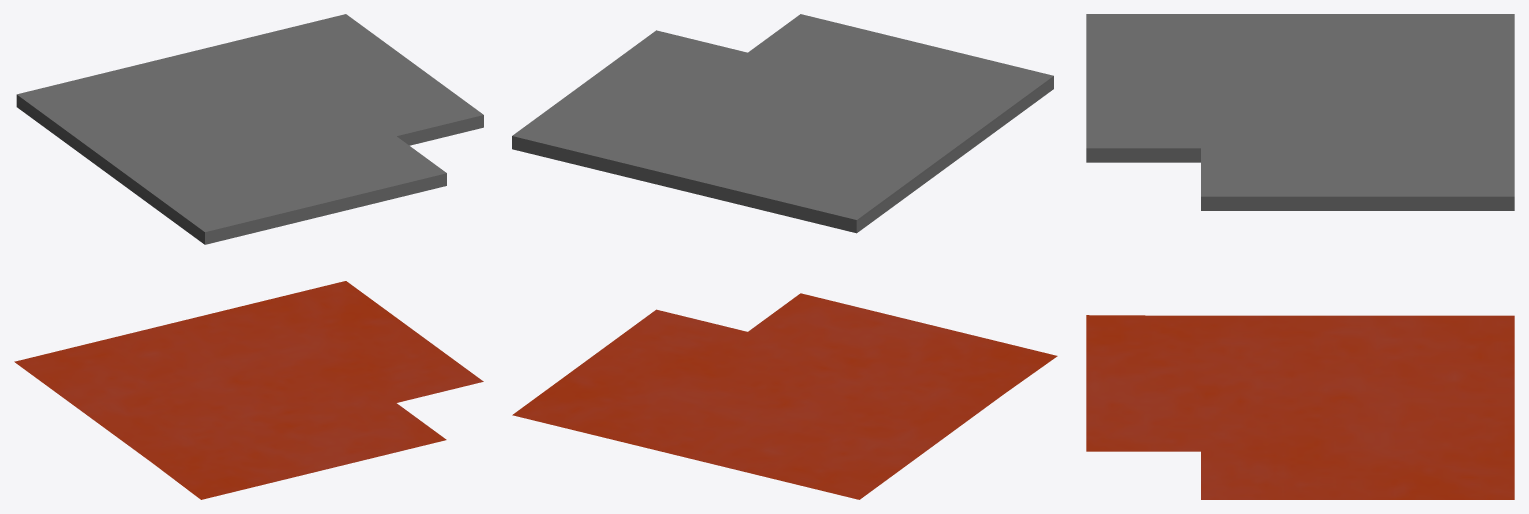
The model's file is CornerCounter.fbx.
The picture shows the model from 3 angles, left to right: view 1: azimuth 30°, elevation 25°; view 2: azimuth 150°, elevation 25°; view 3: azimuth 270°, elevation 25°; orthographic projection. The views are drawn at different scales.
Parts seen in each view (by area): view 1: KitchenCorner2; view 2: KitchenCorner2; view 3: KitchenCorner2.
Part boxes in pixels (x1,y1,x2,y2): KitchenCorner2: (14,14,483,499); KitchenCorner2: (512,14,1057,499); KitchenCorner2: (1086,14,1514,499).
Bounding box in the file's own units: 1.4 × 1.07 × 1.37.
